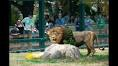lion: (49, 26, 101, 62)
